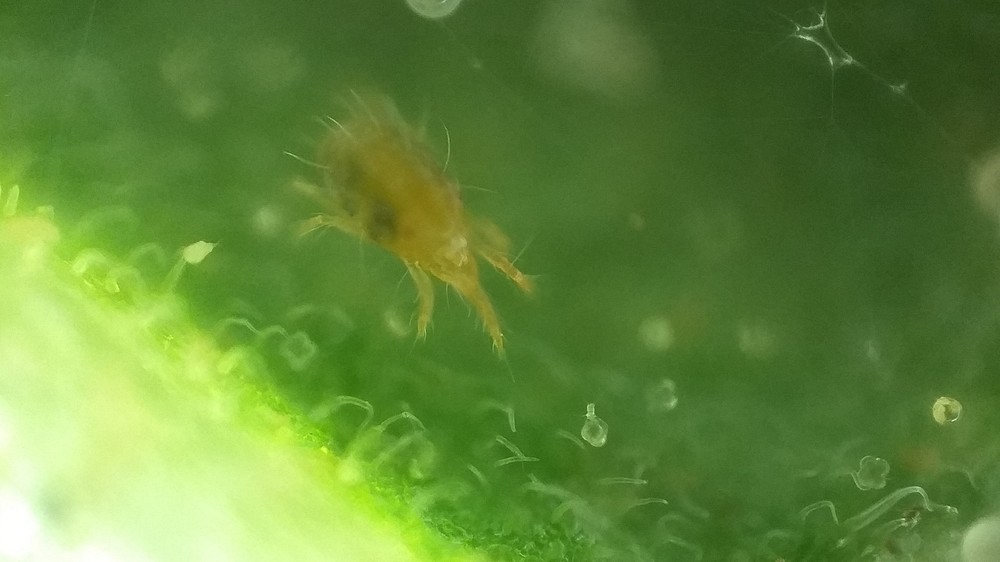Aracnido Rojo: (252, 80, 587, 382)
